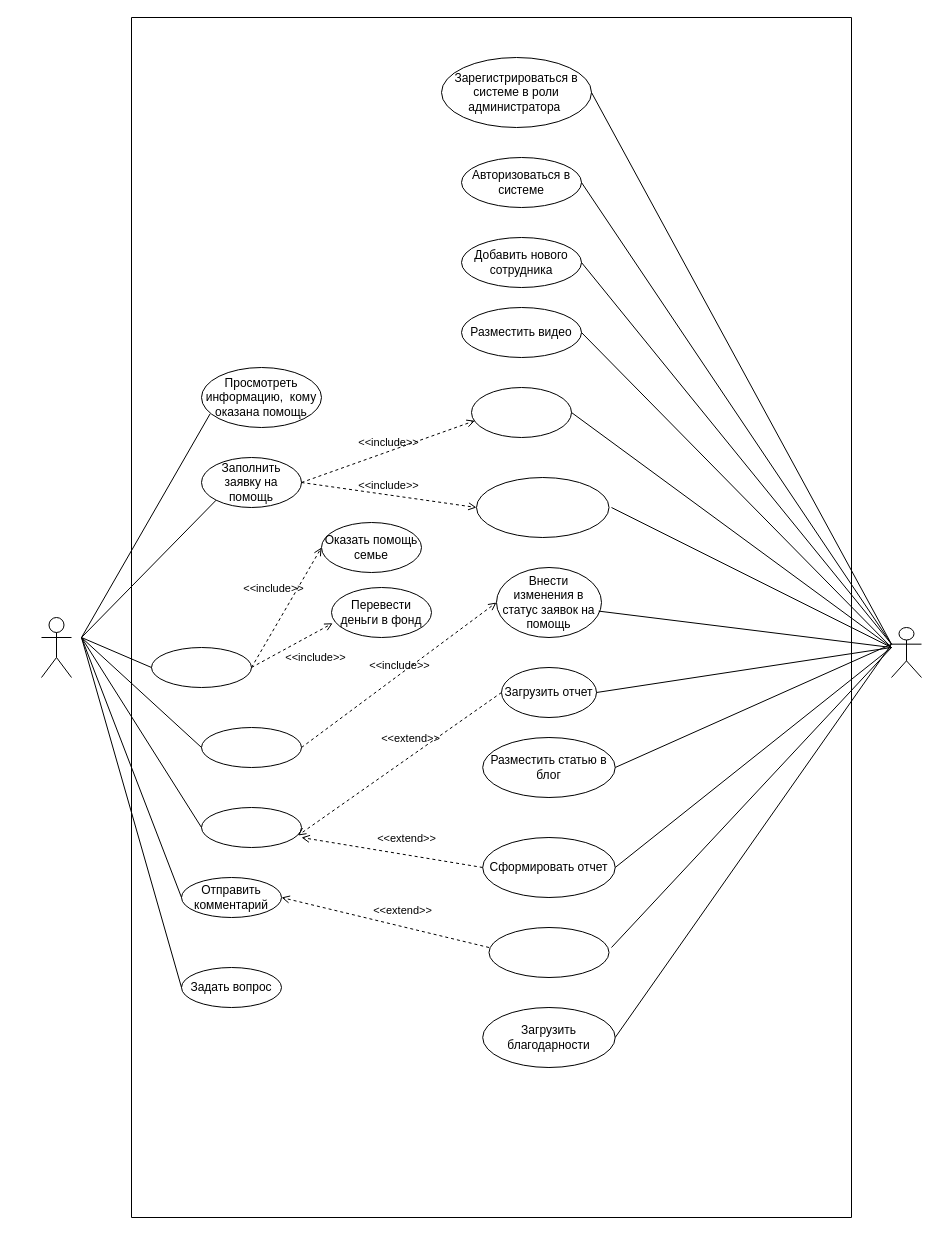
Some shapes in this 942 by 1236 pixel diagram are drawn without their labels. Each missing label, with the centre of its shape:
Админ: the point at 906,652
Добавить нужду: the point at 542,507
Модерация комментариев: the point at 548,952
Пользователь: the point at 56,647
Помочь ребенку: the point at 201,667
Просмотреть отчеты: the point at 251,827
Редактирование анкеты семьи: the point at 521,412
Стать волонтером: the point at 251,747
